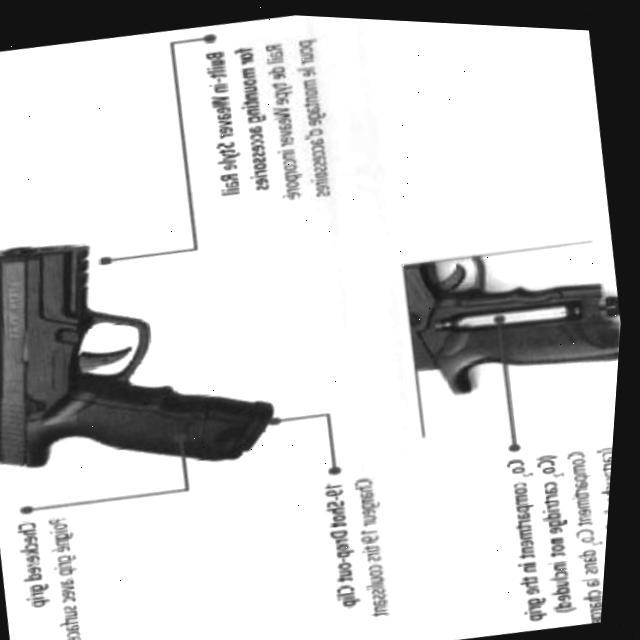gun: (0, 204, 295, 500)
